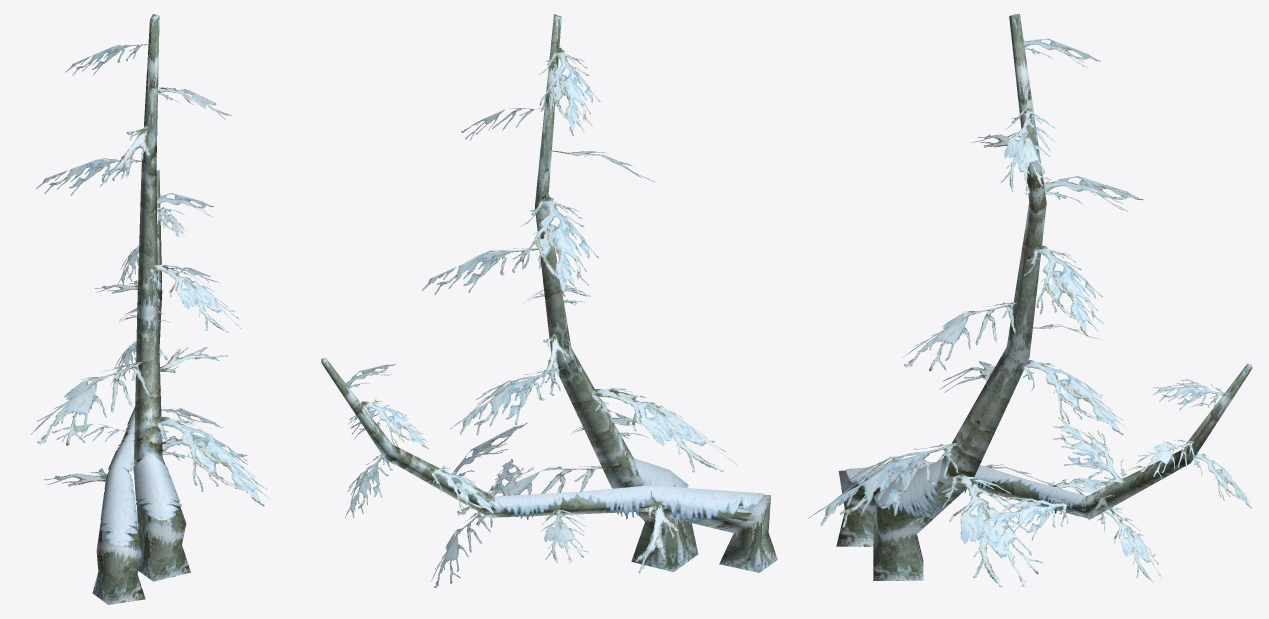
Rendered from nml-bd121.glb.
The picture shows the model from 3 angles, left to right: view 1: azimuth 30°, elevation 25°; view 2: azimuth 150°, elevation 25°; view 3: azimuth 270°, elevation 25°; orthographic projection. The views are drawn at different scales.
Visible parts, largest first — view 1: geom_node_0; view 2: geom_node_0; view 3: geom_node_0.
Boxes of the visible parts, x1,y1,x2,y2 form: geom_node_0: (31, 14, 270, 604); geom_node_0: (321, 14, 777, 587); geom_node_0: (808, 14, 1252, 587).
Bounding box in the file's own units: 6.22 × 10.86 × 7.58.
Materials: 2 (2 with a texture image).
